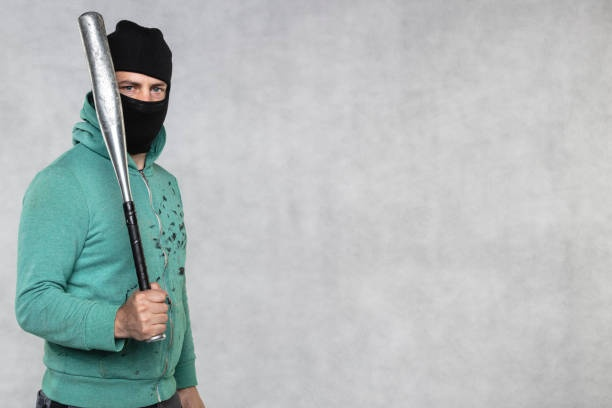bita: (75, 10, 161, 297)
